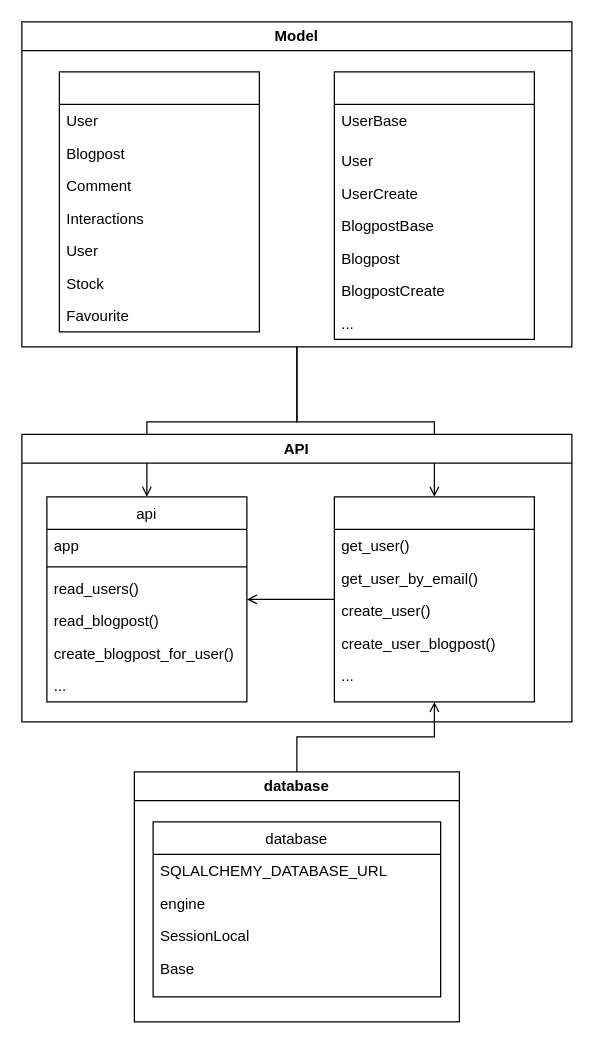
This 594x1044 diagram has some shape labels left out. The shapes that lost their labels are listed below. From the top down, each one's box as (x1, y1, x2, y2) in pixels, then its label:
(58, 71, 259, 332): models
(333, 71, 534, 339): schemas
(333, 496, 534, 702): crud
